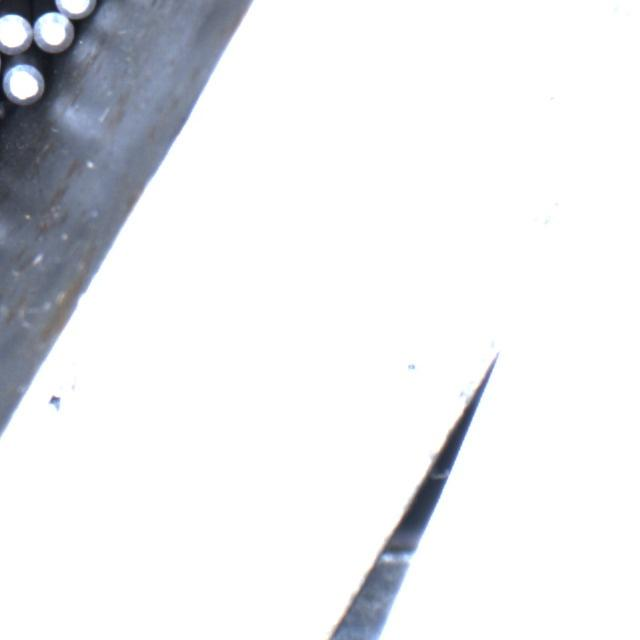tool: (3, 62, 43, 103), (31, 9, 72, 48), (0, 15, 32, 54), (54, 0, 93, 18)
